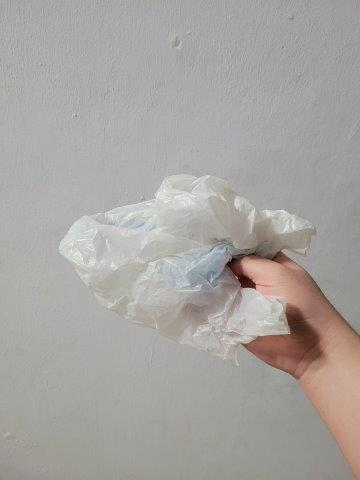plastik: (57, 172, 318, 364)
